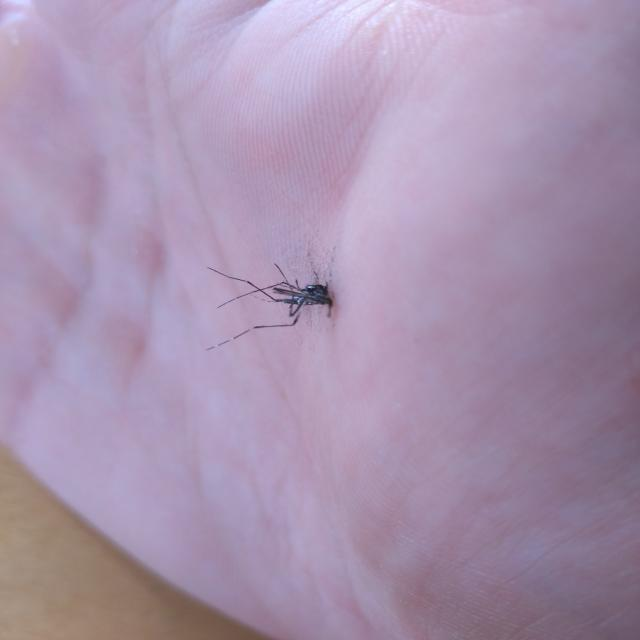albopictus: (200, 244, 341, 352)
